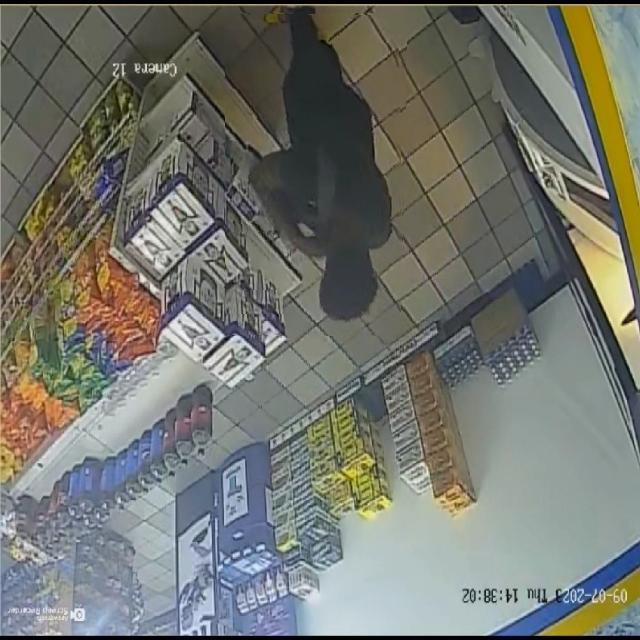normal: (225, 13, 405, 336)
